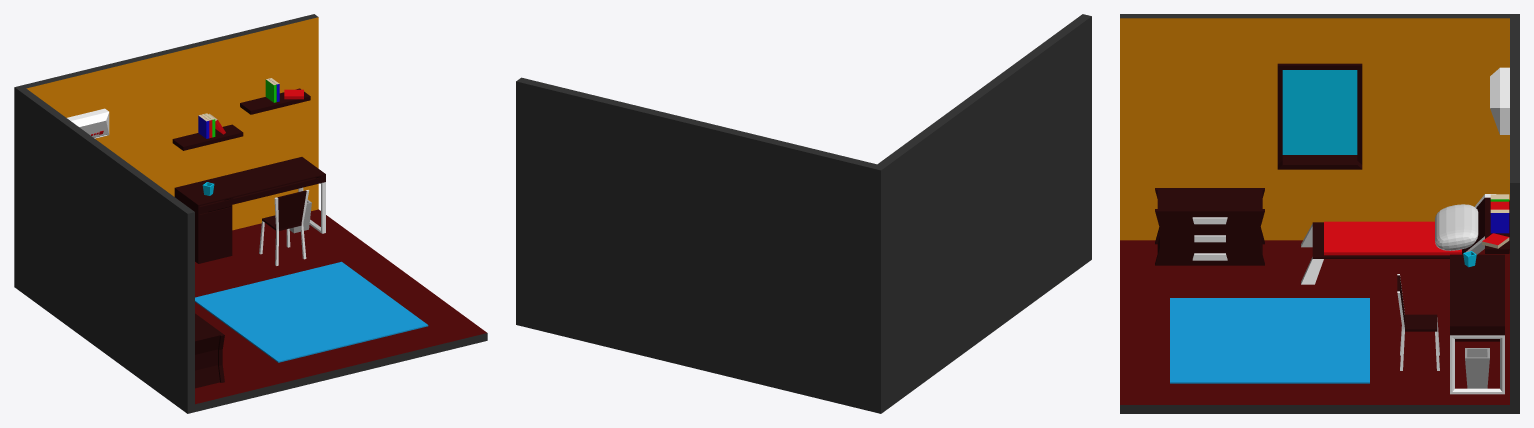
Rendered from komnataRedused.fbx.
3 renders of one model, left to right at view 1: azimuth 30°, elevation 25°; view 2: azimuth 150°, elevation 25°; view 3: azimuth 270°, elevation 25°, orthographic. The views are drawn at different scales.
Parts seen in each view (by area): view 1: Cube; view 2: Cube; view 3: Cube, Куб.
Part boxes in pixels (x1,y1,x2,y2): Cube: [14, 14, 487, 413]; Cube: [516, 14, 1091, 413]; Cube: [1120, 14, 1519, 413]; Куб: [1435, 204, 1478, 250].
Size of the model in its own units: 800 by 510 by 800.
